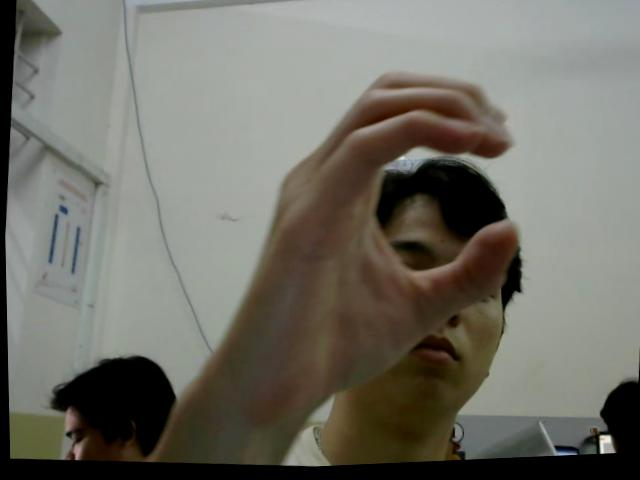C: (222, 56, 531, 419)
